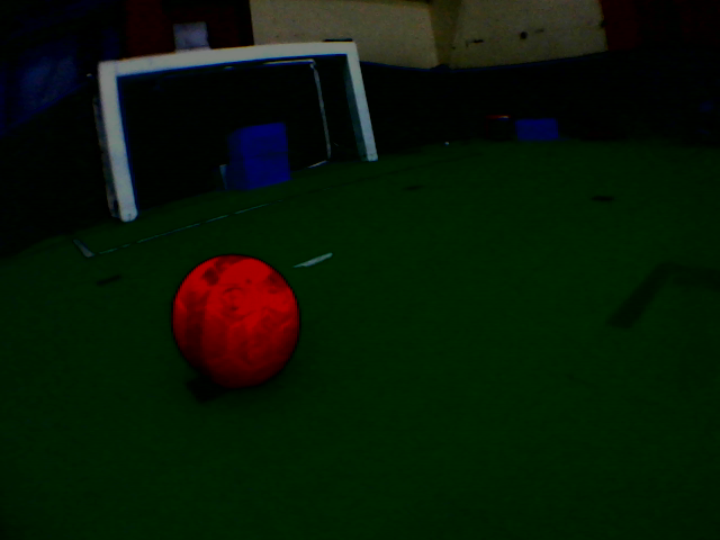bola: (157, 248, 307, 392)
